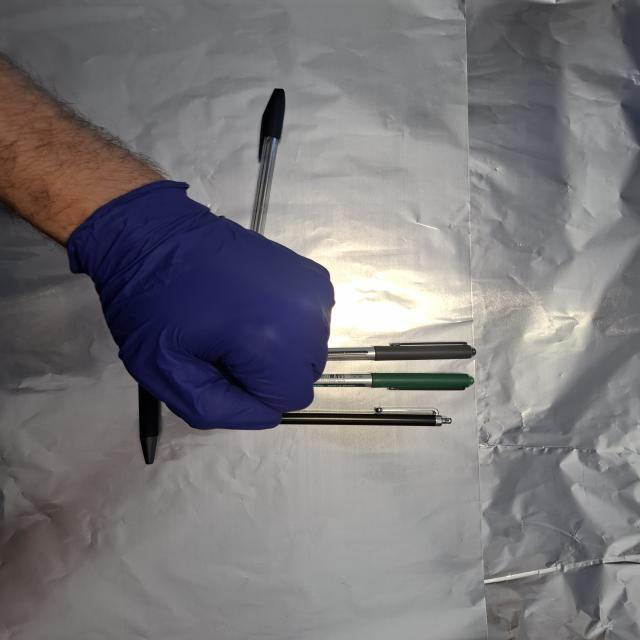glove_on: (68, 178, 340, 435)
